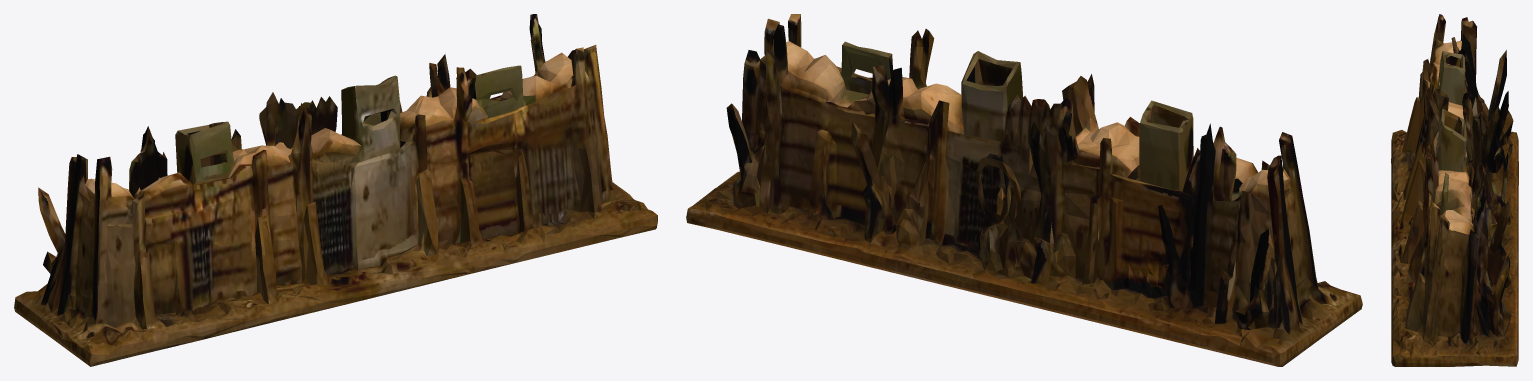
Rendered from outpost-barricade.glb.
The picture shows the model from 3 angles, left to right: view 1: azimuth 30°, elevation 25°; view 2: azimuth 150°, elevation 25°; view 3: azimuth 270°, elevation 25°; orthographic projection. The views are drawn at different scales.
Visible parts, largest first — view 1: tmpgmo2_x_h.ply; view 2: tmpgmo2_x_h.ply; view 3: tmpgmo2_x_h.ply.
Part boxes in pixels (x1,y1,x2,y2): tmpgmo2_x_h.ply: (14,14,657,366); tmpgmo2_x_h.ply: (686,14,1362,366); tmpgmo2_x_h.ply: (1391,14,1518,366).
Bounding box in the file's own units: 5 × 1.6 × 1.2.
1 material, 1 textured.
